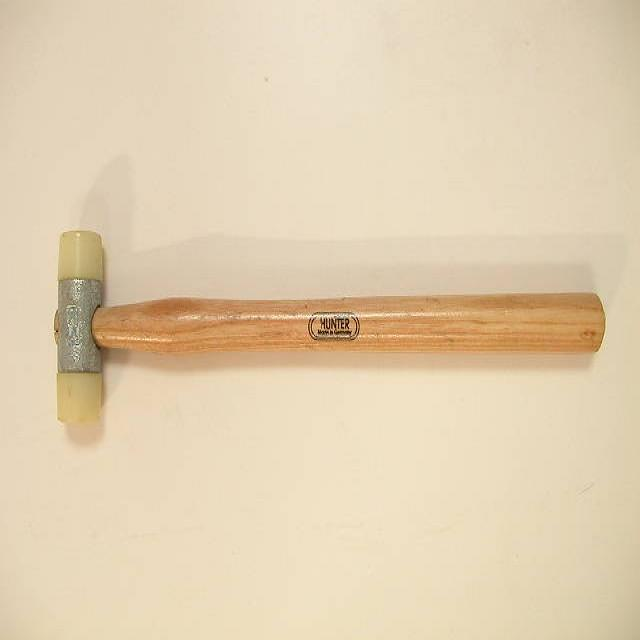hammer: (44, 211, 616, 453)
